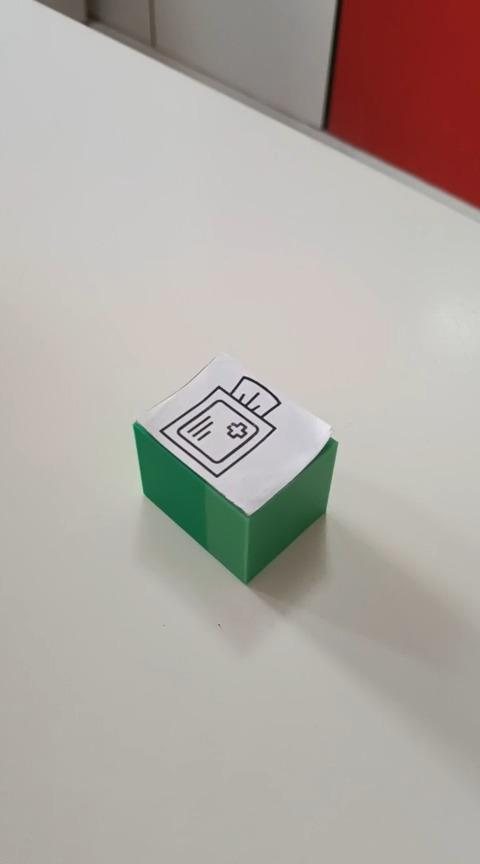Gauze: (131, 352, 338, 585)
